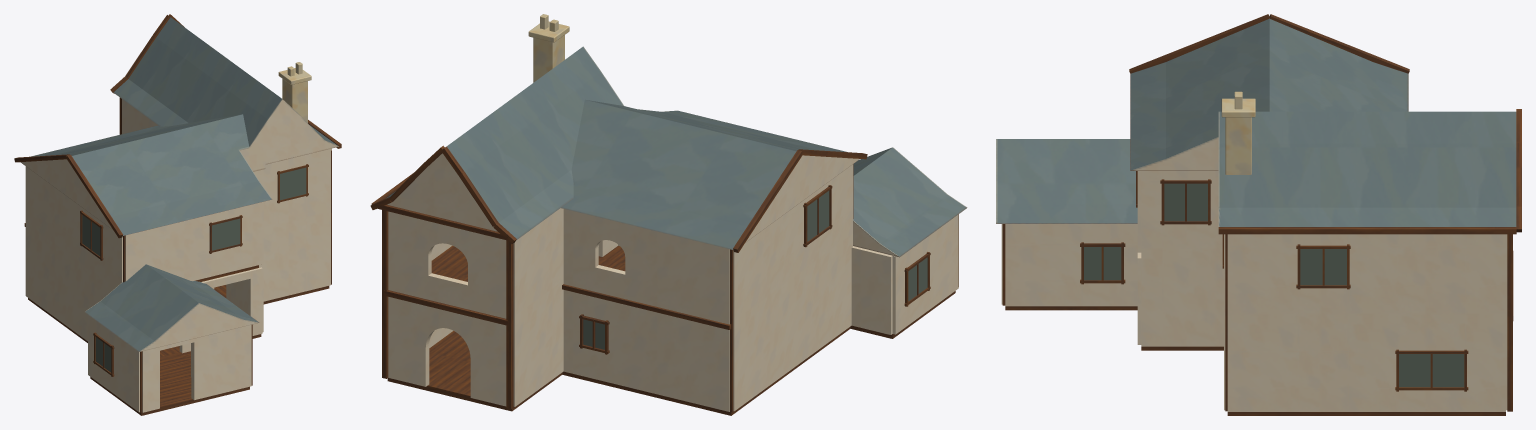
File: CM_Redesign01_Painted_v01.fbx
3 renders of one model, left to right at view 1: azimuth 30°, elevation 25°; view 2: azimuth 150°, elevation 25°; view 3: azimuth 270°, elevation 25°, orthographic. The views are drawn at different scales.
Parts seen in each view (by area): view 1: Shell, Roof_Main_CrossGable, Roof_Lower_WorkAnnex, Window, Frame, Floor_WorkAnnex, Chimney, Floor_Shop, Floor_Residential; view 2: Shell, Roof_Main_CrossGable, Frame, Roof_Lower_WorkAnnex, Window, Floor_Shop, Chimney, Floor_Residential, Floor_Upper_Shop; view 3: Shell, Roof_Main_CrossGable, Roof_Lower_WorkAnnex, Window, Frame, Chimney, Floor_Shop, Floor_WorkAnnex.
Part boxes in pixels (x1,y1,x2,y2): Shell: [25, 99, 331, 412]; Roof_Main_CrossGable: [20, 17, 339, 235]; Roof_Lower_WorkAnnex: [84, 264, 259, 351]; Window: [80, 164, 308, 376]; Frame: [14, 14, 341, 412]; Floor_WorkAnnex: [90, 351, 249, 415]; Chimney: [278, 62, 311, 122]; Floor_Shop: [214, 285, 329, 304]; Floor_Residential: [28, 298, 261, 357]; Shell: [388, 164, 958, 411]; Roof_Main_CrossGable: [385, 46, 859, 249]; Frame: [370, 145, 958, 411]; Roof_Lower_WorkAnnex: [853, 147, 967, 257]; Window: [579, 185, 930, 354]; Floor_Shop: [387, 331, 562, 411]; Chimney: [528, 14, 569, 82]; Floor_Residential: [562, 327, 850, 415]; Floor_Upper_Shop: [431, 245, 598, 281]; Shell: [1001, 171, 1507, 411]; Roof_Main_CrossGable: [1130, 18, 1516, 226]; Roof_Lower_WorkAnnex: [996, 139, 1137, 223]; Window: [1080, 171, 1468, 391]; Frame: [1002, 14, 1521, 411]; Chimney: [1221, 91, 1255, 174]; Floor_Shop: [1227, 412, 1505, 415]; Floor_WorkAnnex: [1005, 306, 1137, 310].
Size of the model in its own units: 14.24 by 10.86 by 17.02.
